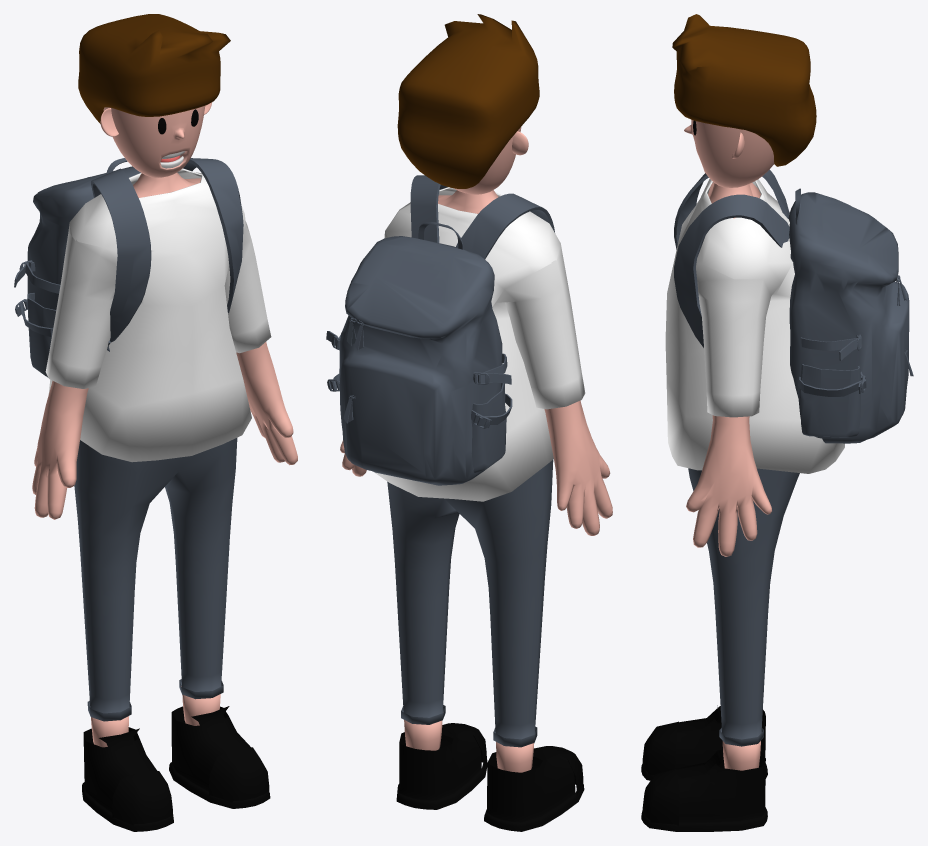
Rendered from boy_standing.fbx.
The picture shows the model from 3 angles, left to right: view 1: azimuth 30°, elevation 25°; view 2: azimuth 150°, elevation 25°; view 3: azimuth 270°, elevation 25°; orthographic projection.
Parts seen in each view (by area): view 1: body, Cube.001; view 2: body, Cube.001; view 3: body, Cube.001.
Part boxes in pixels (x1,y1,x2,y2): body: (14,158,297,831); Cube.001: (78,14,230,177); body: (326,175,612,831); Cube.001: (397,14,539,194); body: (641,169,913,831); Cube.001: (672,14,816,187).
Bounding box in the file's own units: 72.84 × 217 × 69.41.
